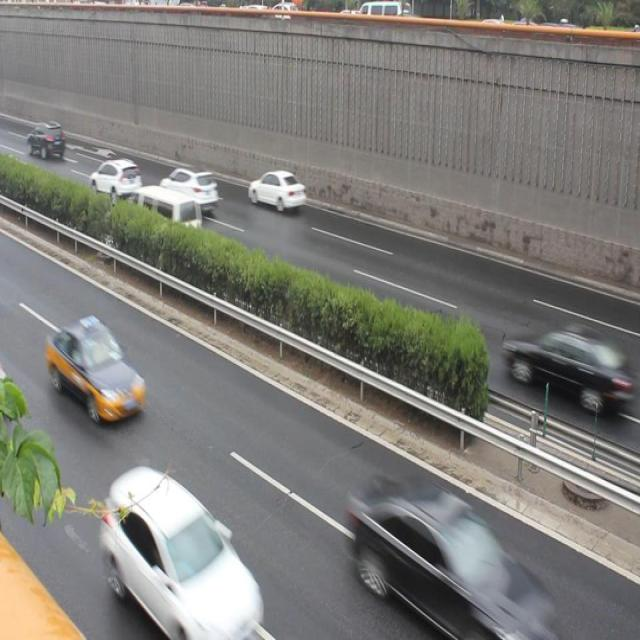car: (348, 477, 542, 640), (103, 470, 257, 640), (45, 310, 150, 418), (508, 319, 627, 408), (246, 162, 305, 215), (162, 161, 220, 214), (88, 156, 141, 201)
truck: (134, 182, 202, 238)
